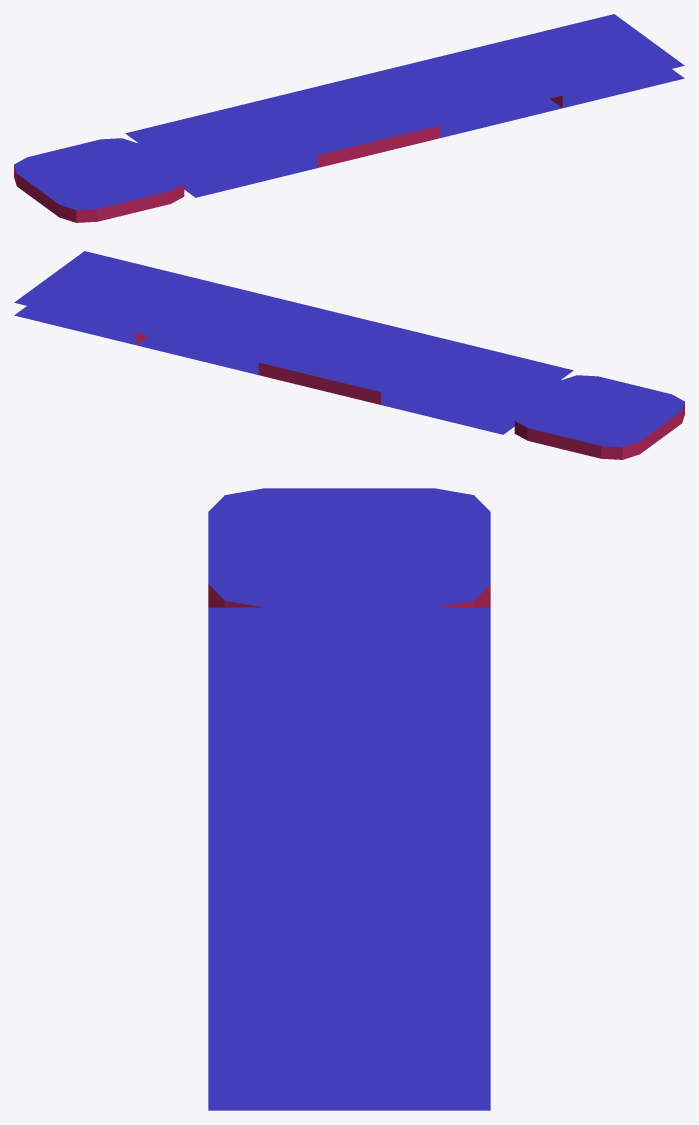
The model's file is Placa.fbx.
3 views of the same model, one above another, from view 1: azimuth 30°, elevation 25°; view 2: azimuth 150°, elevation 25°; view 3: azimuth 270°, elevation 25° (orthographic). The views are drawn at different scales.
Parts seen in each view (by area): view 1: Esquinas, EjeX, PlanoZ, EjeY, DoblezZ; view 2: Esquinas, EjeX, PlanoZ, EjeY, DoblezZ; view 3: DoblezZ, EjeY, EjeX, PlanoZ, Esquinas.
Part boxes in pixels (x1,y1,x2,y2): Esquinas: (14,138,184,222); EjeX: (247,73,440,167); PlanoZ: (125,103,317,197); EjeY: (370,44,562,137); DoblezZ: (492,14,684,107); Esquinas: (514,375,684,459); EjeX: (258,310,451,404); PlanoZ: (381,340,573,434); EjeY: (136,281,328,374); DoblezZ: (14,251,206,344); DoblezZ: (208,965,490,1110); EjeY: (208,846,490,965); EjeX: (208,727,490,846); PlanoZ: (208,607,490,726); Esquinas: (208,488,490,607).
Size of the model in its own units: 5 by 0.1 by 1.
